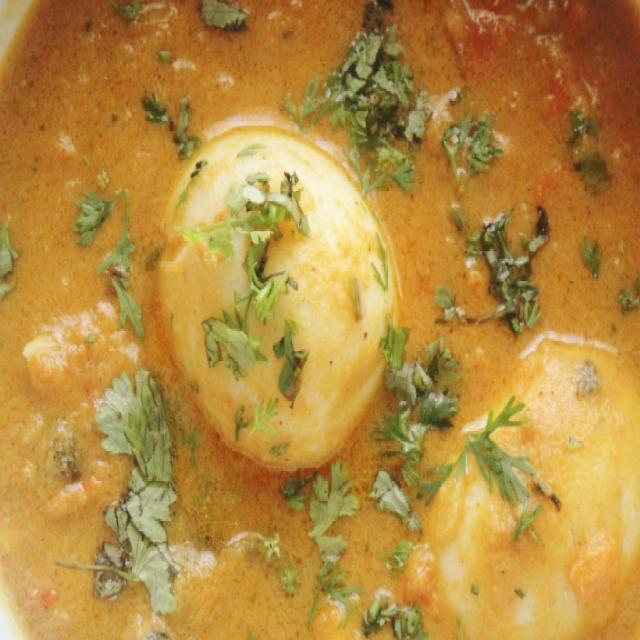EGG: (0, 2, 639, 639)
